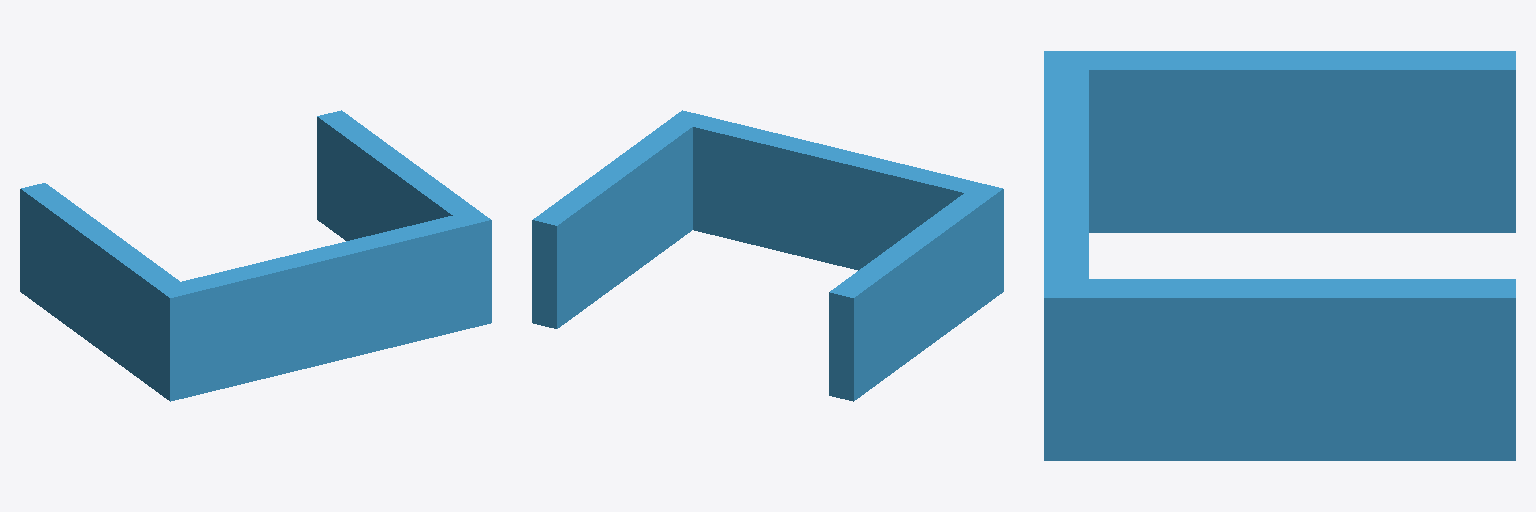
URDF robot description (ur5):
<?xml version="1.0" ?>
<!-- =================================================================================== -->
<!-- |    This document was autogenerated by xacro from [local-path]/devel/isae/install/share/ur_description/urdf/ur5_joint_limited_robot.urdf.xacro | -->
<!-- |    EDITING THIS FILE BY HAND IS NOT RECOMMENDED                                 | -->
<!-- =================================================================================== -->
<robot name="ur5" xmlns:xacro="http://www.ros.org/wiki/xacro">
  <!-- common stuff -->
  <gazebo>
    <plugin filename="libgazebo_ros_control.so" name="ros_control">
      <!--robotNamespace>/</robotNamespace-->
      <!--robotSimType>gazebo_ros_control/DefaultRobotHWSim</robotSimType-->
    </plugin>
    <!--
    <plugin name="gazebo_ros_power_monitor_controller" filename="libgazebo_ros_power_monitor.so">
      <alwaysOn>true</alwaysOn>
      <updateRate>1.0</updateRate>
      <timeout>5</timeout>
      <powerStateTopic>power_state</powerStateTopic>
      <powerStateRate>10.0</powerStateRate>
      <fullChargeCapacity>87.78</fullChargeCapacity>
      <dischargeRate>-474</dischargeRate>
      <chargeRate>525</chargeRate>
      <dischargeVoltage>15.52</dischargeVoltage>
      <chargeVoltage>16.41</chargeVoltage>
    </plugin>
-->
  </gazebo>
  <!-- ur5 -->
  <!-- Inertia parameters -->
  <!-- This mass might be incorrect -->
  <!-- Kinematic model -->
  <!-- Properties from urcontrol.conf -->
  <!--
    DH for UR5:
    a = [0.00000, -0.42500, -0.39225,  0.00000,  0.00000,  0.0000]
    d = [0.089159,  0.00000,  0.00000,  0.10915,  0.09465,  0.0823]
    alpha = [ 1.570796327, 0, 0, 1.570796327, -1.570796327, 0 ]
    q_home_offset = [0, -1.570796327, 0, -1.570796327, 0, 0]
    joint_direction = [-1, -1, 1, 1, 1, 1]
    mass = [3.7000, 8.3930, 2.2750, 1.2190, 1.2190, 0.1879]
    center_of_mass = [ [0, -0.02561, 0.00193], [0.2125, 0, 0.11336], [0.11993, 0.0, 0.0265], [0, -0.0018, 0.01634], [0, 0.0018,0.01634], [0, 0, -0.001159] ]
  -->
  <!-- Arbitrary offsets for shoulder/elbow joints -->
  <!-- measured from model -->
  <!-- measured from model -->
  <!-- link lengths used in model -->
  <!--property name="shoulder_height" value="0.089159" /-->
  <!--property name="shoulder_offset" value="0.13585" /-->
  <!-- shoulder_offset - elbow_offset + wrist_1_length = 0.10915 -->
  <!--property name="upper_arm_length" value="0.42500" /-->
  <!--property name="elbow_offset" value="0.1197" /-->
  <!-- CAD measured -->
  <!--property name="forearm_length" value="0.39225" /-->
  <!--property name="wrist_1_length" value="0.093" /-->
  <!-- CAD measured -->
  <!--property name="wrist_2_length" value="0.09465" /-->
  <!-- In CAD this distance is 0.930, but in the spec it is 0.09465 -->
  <!--property name="wrist_3_length" value="0.0823" /-->
  <!-- manually measured -->
  <!-- manually measured -->
  <!-- manually measured -->
  <!-- manually measured -->
  <!-- manually measured -->
  <!-- arm -->
  <link name="base_link">
    <visual>
      <geometry>
        <mesh filename="package://example-robot-data/robots/ur_description/meshes/ur5/visual/base.dae"/>
      </geometry>
    </visual>
    <collision>
      <geometry>
        <mesh filename="package://example-robot-data/robots/ur_description/meshes/ur5/collision/base.stl"/>
      </geometry>
    </collision>
    <inertial>
      <mass value="4.0"/>
      <origin rpy="0 0 0" xyz="0.0 0.0 0.0"/>
      <inertia ixx="0.00443333156" ixy="0.0" ixz="0.0" iyy="0.00443333156" iyz="0.0" izz="0.0072"/>
    </inertial>
  </link>
  <joint name="shoulder_pan_joint" type="revolute">
    <parent link="base_link"/>
    <child link="shoulder_link"/>
    <origin rpy="0.0 0.0 0.0" xyz="0.0 0.0 0.089159"/>
    <axis xyz="0 0 1"/>
    <limit effort="150.0" lower="-3.14159265" upper="3.14159265" velocity="3.15"/>
    <dynamics damping="0.0" friction="0.0"/>
  </joint>
  <link name="shoulder_link">
    <visual>
      <geometry>
        <mesh filename="package://example-robot-data/robots/ur_description/meshes/ur5/visual/shoulder.dae"/>
      </geometry>
    </visual>
    <collision>
      <geometry>
        <mesh filename="package://example-robot-data/robots/ur_description/meshes/ur5/collision/shoulder.stl"/>
      </geometry>
    </collision>
    <inertial>
      <mass value="3.7"/>
      <origin rpy="0 0 0" xyz="0.0 0.0 0.0"/>
      <inertia ixx="0.010267495893" ixy="0.0" ixz="0.0" iyy="0.010267495893" iyz="0.0" izz="0.00666"/>
    </inertial>
  </link>
  <joint name="shoulder_lift_joint" type="revolute">
    <parent link="shoulder_link"/>
    <child link="upper_arm_link"/>
    <origin rpy="0.0 1.570796325 0.0" xyz="0.0 0.13585 0.0"/>
    <axis xyz="0 1 0"/>
    <limit effort="150.0" lower="-3.14159265" upper="3.14159265" velocity="3.15"/>
    <dynamics damping="0.0" friction="0.0"/>
  </joint>
  <link name="upper_arm_link">
    <visual>
      <geometry>
        <mesh filename="package://example-robot-data/robots/ur_description/meshes/ur5/visual/upperarm.dae"/>
      </geometry>
    </visual>
    <collision>
      <geometry>
        <mesh filename="package://example-robot-data/robots/ur_description/meshes/ur5/collision/upperarm.stl"/>
      </geometry>
    </collision>
    <inertial>
      <mass value="8.393"/>
      <origin rpy="0 0 0" xyz="0.0 0.0 0.28"/>
      <inertia ixx="0.22689067591" ixy="0.0" ixz="0.0" iyy="0.22689067591" iyz="0.0" izz="0.0151074"/>
    </inertial>
  </link>
  <joint name="elbow_joint" type="revolute">
    <parent link="upper_arm_link"/>
    <child link="forearm_link"/>
    <origin rpy="0.0 0.0 0.0" xyz="0.0 -0.1197 0.425"/>
    <axis xyz="0 1 0"/>
    <limit effort="150.0" lower="-3.14159265" upper="3.14159265" velocity="3.15"/>
    <dynamics damping="0.0" friction="0.0"/>
  </joint>
  <link name="forearm_link">
    <visual>
      <geometry>
        <mesh filename="package://example-robot-data/robots/ur_description/meshes/ur5/visual/forearm.dae"/>
      </geometry>
    </visual>
    <collision>
      <geometry>
        <mesh filename="package://example-robot-data/robots/ur_description/meshes/ur5/collision/forearm.stl"/>
      </geometry>
    </collision>
    <inertial>
      <mass value="2.275"/>
      <origin rpy="0 0 0" xyz="0.0 0.0 0.25"/>
      <inertia ixx="0.049443313556" ixy="0.0" ixz="0.0" iyy="0.049443313556" iyz="0.0" izz="0.004095"/>
    </inertial>
  </link>
  <joint name="wrist_1_joint" type="revolute">
    <parent link="forearm_link"/>
    <child link="wrist_1_link"/>
    <origin rpy="0.0 1.570796325 0.0" xyz="0.0 0.0 0.39225"/>
    <axis xyz="0 1 0"/>
    <limit effort="28.0" lower="-3.14159265" upper="3.14159265" velocity="3.2"/>
    <dynamics damping="0.0" friction="0.0"/>
  </joint>
  <link name="wrist_1_link">
    <visual>
      <geometry>
        <mesh filename="package://example-robot-data/robots/ur_description/meshes/ur5/visual/wrist1.dae"/>
      </geometry>
    </visual>
    <collision>
      <geometry>
        <mesh filename="package://example-robot-data/robots/ur_description/meshes/ur5/collision/wrist1.stl"/>
      </geometry>
    </collision>
    <inertial>
      <mass value="1.219"/>
      <origin rpy="0 0 0" xyz="0.0 0.0 0.0"/>
      <inertia ixx="0.111172755531" ixy="0.0" ixz="0.0" iyy="0.111172755531" iyz="0.0" izz="0.21942"/>
    </inertial>
  </link>
  <joint name="wrist_2_joint" type="revolute">
    <parent link="wrist_1_link"/>
    <child link="wrist_2_link"/>
    <origin rpy="0.0 0.0 0.0" xyz="0.0 0.093 0.0"/>
    <axis xyz="0 0 1"/>
    <limit effort="28.0" lower="-3.14159265" upper="3.14159265" velocity="3.2"/>
    <dynamics damping="0.0" friction="0.0"/>
  </joint>
  <link name="wrist_2_link">
    <visual>
      <geometry>
        <mesh filename="package://example-robot-data/robots/ur_description/meshes/ur5/visual/wrist2.dae"/>
      </geometry>
    </visual>
    <collision>
      <geometry>
        <mesh filename="package://example-robot-data/robots/ur_description/meshes/ur5/collision/wrist2.stl"/>
      </geometry>
    </collision>
    <inertial>
      <mass value="1.219"/>
      <origin rpy="0 0 0" xyz="0.0 0.0 0.0"/>
      <inertia ixx="0.111172755531" ixy="0.0" ixz="0.0" iyy="0.111172755531" iyz="0.0" izz="0.21942"/>
    </inertial>
  </link>
  <joint name="wrist_3_joint" type="revolute">
    <parent link="wrist_2_link"/>
    <child link="wrist_3_link"/>
    <origin rpy="0.0 0.0 0.0" xyz="0.0 0.0 0.09465"/>
    <axis xyz="0 1 0"/>
    <limit effort="28.0" lower="-3.14159265" upper="3.14159265" velocity="3.2"/>
    <dynamics damping="0.0" friction="0.0"/>
  </joint>
  <link name="wrist_3_link">
    <visual>
      <geometry>
        <mesh filename="package://example-robot-data/robots/ur_description/meshes/ur5/visual/wrist3.dae"/>
      </geometry>
    </visual>
    <collision>
      <geometry>
        <mesh filename="package://example-robot-data/robots/ur_description/meshes/ur5/collision/wrist3.stl"/>
      </geometry>
    </collision>
    <inertial>
      <mass value="0.1879"/>
      <origin rpy="0 0 0" xyz="0.0 0.0 0.0"/>
      <inertia ixx="0.0171364731454" ixy="0.0" ixz="0.0" iyy="0.0171364731454" iyz="0.0" izz="0.033822"/>
    </inertial>
  </link>
  <joint name="ee_fixed_joint" type="fixed">
    <parent link="wrist_3_link"/>
    <child link="ee_link"/>
    <origin rpy="0.0 0.0 1.570796325" xyz="0.0 0.0823 0.0"/>
  </joint>
  <link name="ee_link">
    <inertial>
      <mass value="0"/>
      <origin rpy="0 0 0" xyz="0 0 0"/>
      <inertia ixx="0" ixy="0" ixz="0" iyy="0" iyz="0" izz="0"/>
    </inertial>
    <collision>
      <geometry>
        <box size="0.01 0.01 0.01"/>
      </geometry>
      <origin rpy="0 0 0" xyz="-0.01 0 0"/>
    </collision>
  </link>
  <transmission name="shoulder_pan_trans">
    <type>transmission_interface/SimpleTransmission</type>
    <joint name="shoulder_pan_joint">
      <hardwareInterface>PositionJointInterface</hardwareInterface>
    </joint>
    <actuator name="shoulder_pan_motor">
      <mechanicalReduction>1</mechanicalReduction>
    </actuator>
  </transmission>
  <transmission name="shoulder_lift_trans">
    <type>transmission_interface/SimpleTransmission</type>
    <joint name="shoulder_lift_joint">
      <hardwareInterface>PositionJointInterface</hardwareInterface>
    </joint>
    <actuator name="shoulder_lift_motor">
      <mechanicalReduction>1</mechanicalReduction>
    </actuator>
  </transmission>
  <transmission name="elbow_trans">
    <type>transmission_interface/SimpleTransmission</type>
    <joint name="elbow_joint">
      <hardwareInterface>PositionJointInterface</hardwareInterface>
    </joint>
    <actuator name="elbow_motor">
      <mechanicalReduction>1</mechanicalReduction>
    </actuator>
  </transmission>
  <transmission name="wrist_1_trans">
    <type>transmission_interface/SimpleTransmission</type>
    <joint name="wrist_1_joint">
      <hardwareInterface>PositionJointInterface</hardwareInterface>
    </joint>
    <actuator name="wrist_1_motor">
      <mechanicalReduction>1</mechanicalReduction>
    </actuator>
  </transmission>
  <transmission name="wrist_2_trans">
    <type>transmission_interface/SimpleTransmission</type>
    <joint name="wrist_2_joint">
      <hardwareInterface>PositionJointInterface</hardwareInterface>
    </joint>
    <actuator name="wrist_2_motor">
      <mechanicalReduction>1</mechanicalReduction>
    </actuator>
  </transmission>
  <transmission name="wrist_3_trans">
    <type>transmission_interface/SimpleTransmission</type>
    <joint name="wrist_3_joint">
      <hardwareInterface>PositionJointInterface</hardwareInterface>
    </joint>
    <actuator name="wrist_3_motor">
      <mechanicalReduction>1</mechanicalReduction>
    </actuator>
  </transmission>
  <!-- nothing to do here at the moment -->
  <!-- ROS base_link to UR 'Base' Coordinates transform -->
  <link name="base">
    <inertial>
      <mass value="0"/>
      <origin rpy="0 0 0" xyz="0 0 0"/>
      <inertia ixx="0" ixy="0" ixz="0" iyy="0" iyz="0" izz="0"/>
    </inertial>
  </link>
  <joint name="base_link-base_fixed_joint" type="fixed">
    <!-- NOTE: this rotation is only needed as long as base_link itself is
                 not corrected wrt the real robot (ie: rotated over 180
                 degrees)
      -->
    <origin rpy="0 0 -3.14159265" xyz="0 0 0"/>
    <parent link="base_link"/>
    <child link="base"/>
  </joint>
  <!-- Frame coincident with all-zeros TCP on UR controller -->
  <link name="tool0">
    <inertial>
      <mass value="0"/>
      <origin rpy="0 0 0" xyz="0 0 0"/>
      <inertia ixx="0" ixy="0" ixz="0" iyy="0" iyz="0" izz="0"/>
    </inertial>
    <visual>
      <geometry>
	<box size="0.005 0.02 0.05" />
      </geometry>
      <origin xyz="0.03 0 0.035" />
    </visual>
    <visual>
      <geometry>
	<box size="0.005 0.02 0.05" />
      </geometry>
      <origin xyz="-0.03 0 0.035" />
    </visual>
    <visual>
      <geometry>
	<box size="0.065 0.02 0.005" />
      </geometry>
      <origin xyz="0 0 0.01" />
    </visual>

    <collision>
      <geometry>
	<box size="0.005 0.02 0.05" />
      </geometry>
      <origin xyz="0.03 0 0.035" />
    </collision>
    <collision>
      <geometry>
	<box size="0.005 0.02 0.05" />
      </geometry>
      <origin xyz="-0.03 0 0.035" />
    </collision>
    <collision>
      <geometry>
	<box size="0.065 0.02 0.005" />
      </geometry>
      <origin xyz="0 0 0.01" />
    </collision>
  </link>
  <joint name="wrist_3_link-tool0_fixed_joint" type="fixed">
    <origin rpy="-1.570796325 0 0" xyz="0 0.0823 0"/>
    <parent link="wrist_3_link"/>
    <child link="tool0"/>
  </joint>
  <link name="world"/>
  <joint name="world_joint" type="fixed">
    <parent link="world"/>
    <child link="base_link"/>
    <origin rpy="0.0 0.0 0.0" xyz="0.0 0.0 0.0"/>
  </joint>



</robot>

--- Render facts (derived) ---
Views: 3 orthographic renders of the robot side by side, from view 1: azimuth 30°, elevation 25°; view 2: azimuth 150°, elevation 25°; view 3: azimuth 270°, elevation 25°.
Robot: ur5 — 11 links, 10 joints (6 revolute, 4 fixed); root link world; default pose: all joints at 0.
Links seen in each view (by area): view 1: tool0; view 2: tool0; view 3: tool0.
Boxes of the visible links, x1=… form: tool0: x1=20, y1=110, x2=491, y2=401; tool0: x1=532, y1=110, x2=1003, y2=401; tool0: x1=1044, y1=51, x2=1515, y2=460.
Size in the robot's own frame: 0.065 by 0.0525 by 0.02 metres.
0 mesh visuals loaded from 7 distinct referenced files (none loaded); not drawn: 7 (reference not matched to a file when rendering).